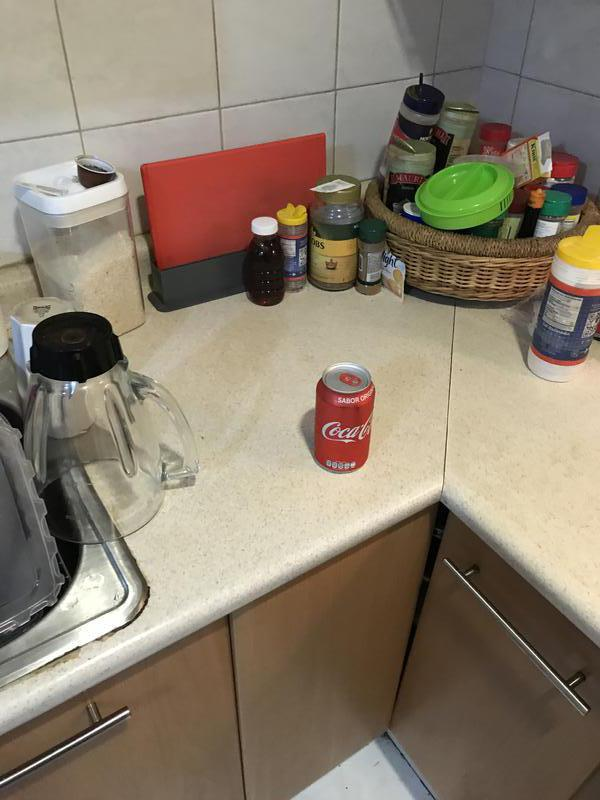coca_cola: (314, 364, 375, 472)
